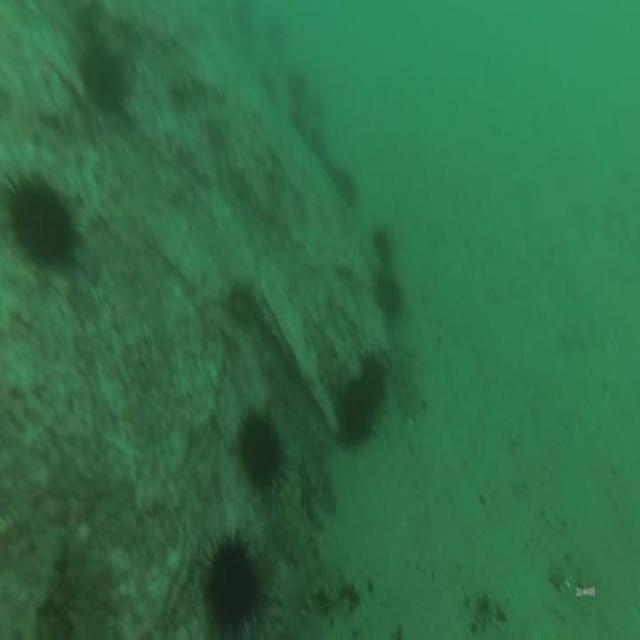echinus: (0, 158, 79, 278), (198, 524, 268, 640), (228, 400, 290, 509), (73, 32, 131, 117), (335, 376, 380, 455), (354, 344, 389, 416), (372, 262, 407, 327), (368, 220, 398, 272), (329, 160, 359, 207), (286, 68, 308, 114), (284, 106, 306, 144)
holothurian: (167, 71, 224, 119)
